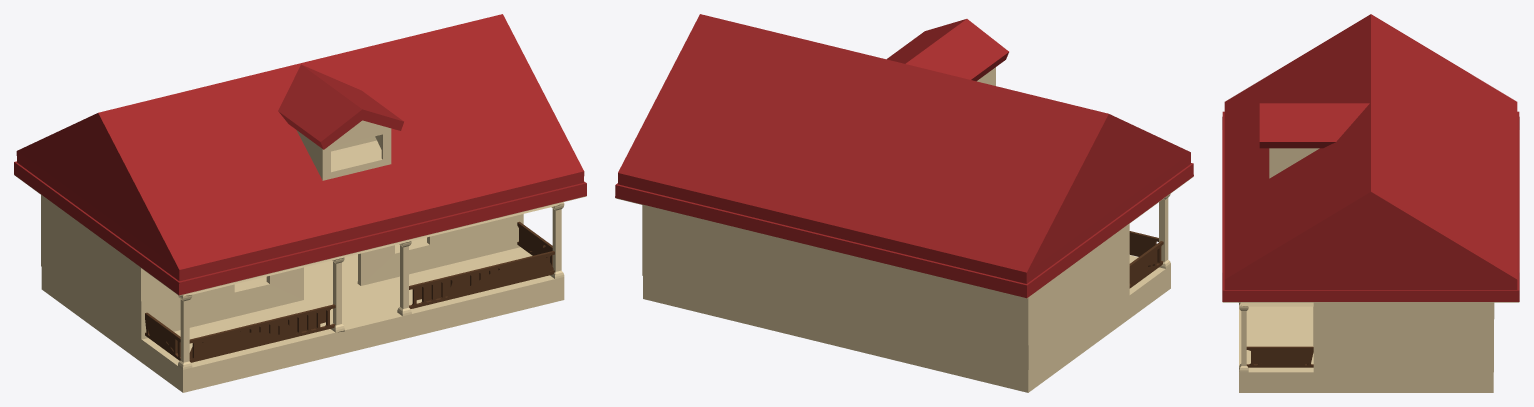
File: House v1.1.fbx
3 renders of one model, left to right at view 1: azimuth 30°, elevation 25°; view 2: azimuth 150°, elevation 25°; view 3: azimuth 270°, elevation 25°, orthographic. The views are drawn at different scales.
Parts seen in each view (by area): view 1: Roof, House, Floor, Fences, Roof2, House1; view 2: Roof, House, Floor, Roof2, Fences; view 3: Roof, House, Floor, Roof2, Fences, House1.
Boxes of the visible parts, <box> form: Roof: <box>14,14,586,295</box>; House: <box>14,136,586,369</box>; Floor: <box>41,237,564,392</box>; Fences: <box>145,221,554,362</box>; Roof2: <box>278,64,403,149</box>; House1: <box>297,120,391,180</box>; Roof: <box>615,14,1193,298</box>; House: <box>615,177,1192,369</box>; Floor: <box>643,255,1170,392</box>; Roof2: <box>887,19,1008,81</box>; Fences: <box>1129,231,1163,288</box>; Roof: <box>1222,14,1519,301</box>; House: <box>1222,302,1519,372</box>; Floor: <box>1239,305,1493,392</box>; Roof2: <box>1259,103,1369,148</box>; Fences: <box>1246,346,1313,367</box>; House1: <box>1269,148,1319,178</box>.
Size of the model in its own units: 1190 by 640 by 836.
